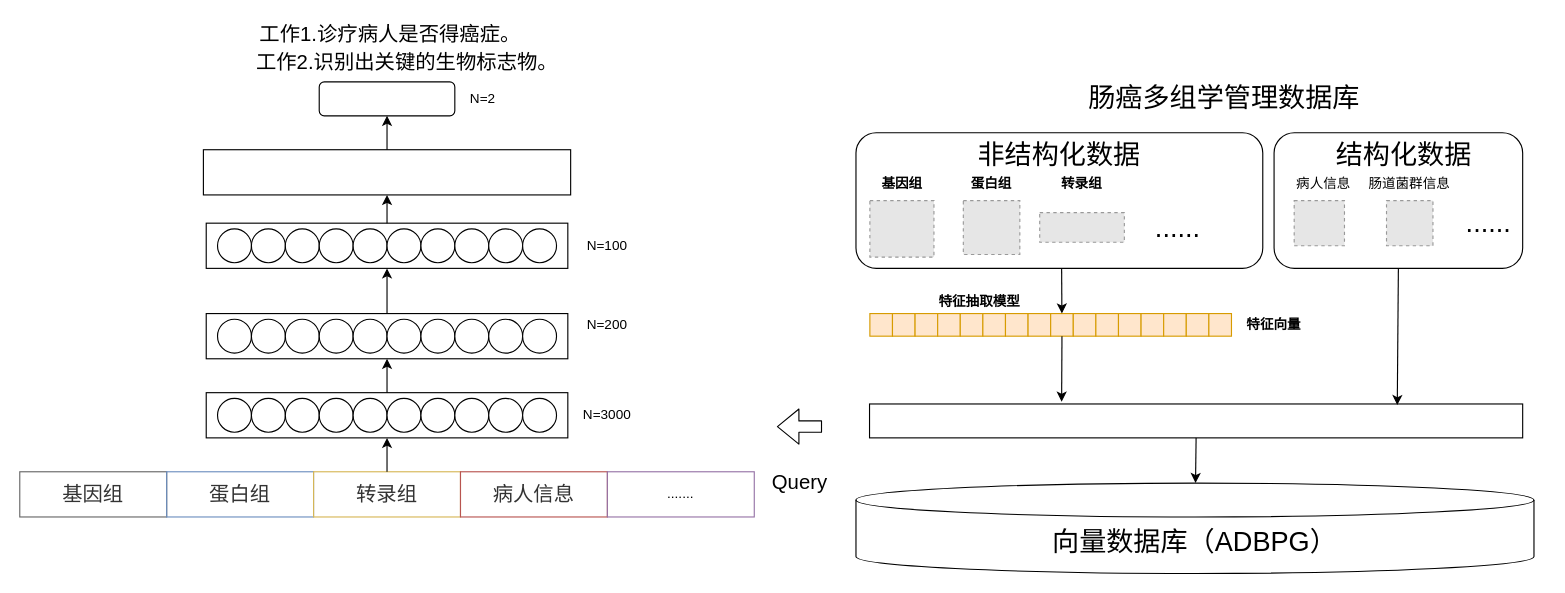
Some shapes in this 1565 by 593 pixel diagram are drawn without their labels. Grey dashed boxes stand in for pictures. Each missing label, with the centre of its shape:
"SQL 接口" belongs at pixel 1195 420.
"全连接层" belongs at pixel 386 172.
